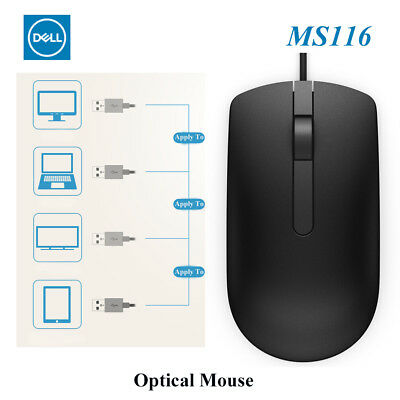dell-mouse-ms116: (219, 55, 382, 363)
